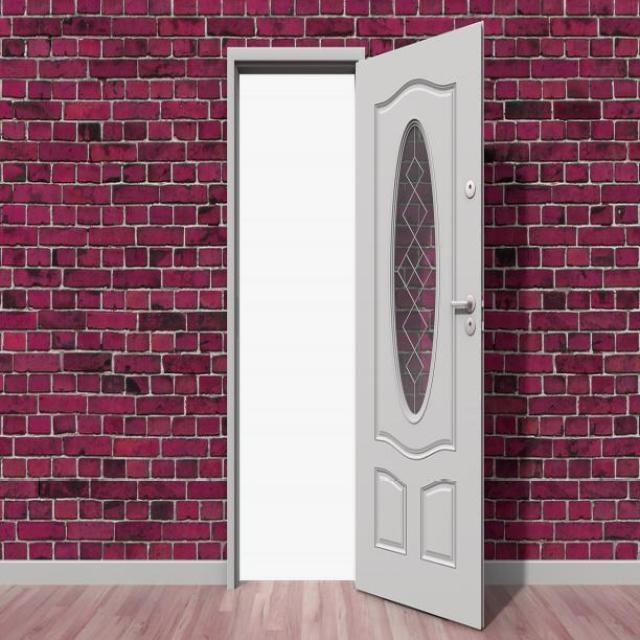door: (353, 18, 485, 630)
